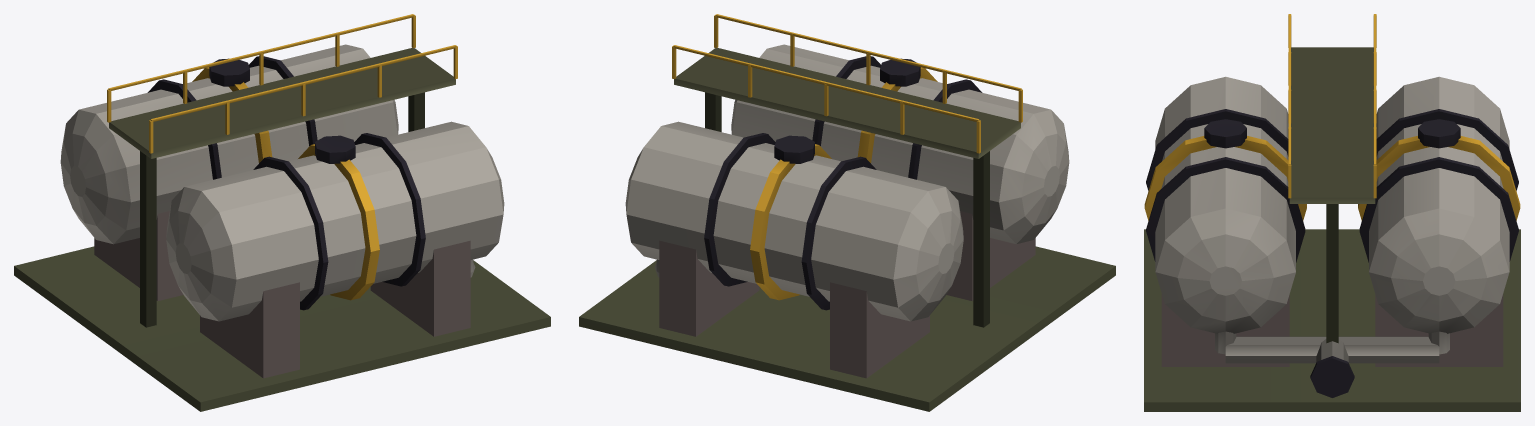
3 renders of one model, left to right at view 1: azimuth 30°, elevation 25°; view 2: azimuth 150°, elevation 25°; view 3: azimuth 270°, elevation 25°, orthographic.
Visible parts, largest first — view 1: body_pal_picketWhite; view 2: body_pal_picketWhite; view 3: body_pal_picketWhite.
Boxes of the visible parts, x1,y1,x2,y2 form: body_pal_picketWhite: (14,14,550,411); body_pal_picketWhite: (579,14,1115,411); body_pal_picketWhite: (1144,14,1520,411).
Bounding box in the file's own units: 11.83 × 7.34 × 10.6.
